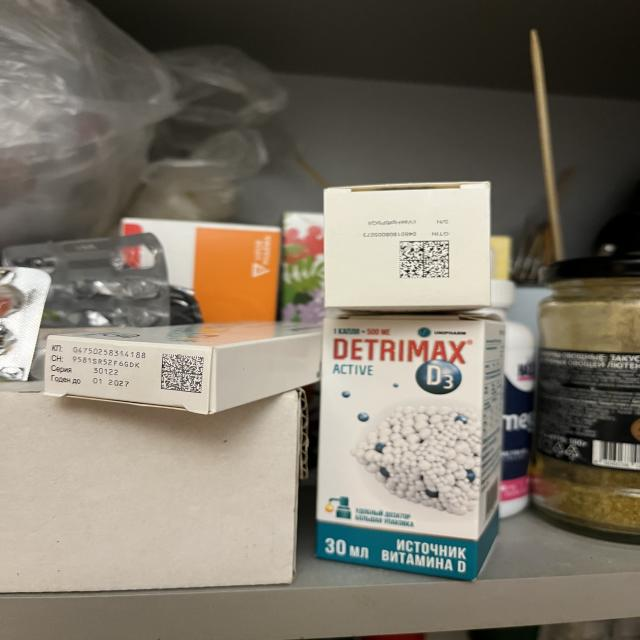datamatrix: (400, 241, 451, 280), (162, 355, 206, 395)
